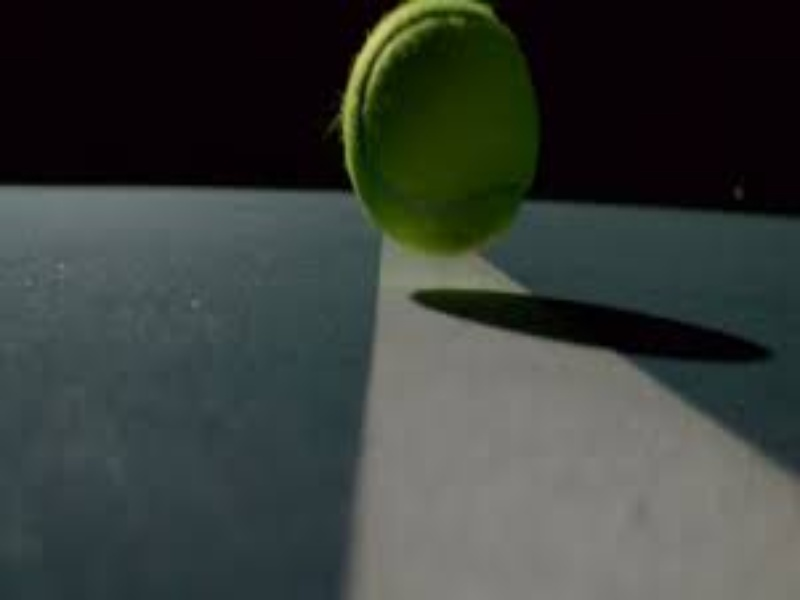tennis ball: (319, 1, 559, 253)
